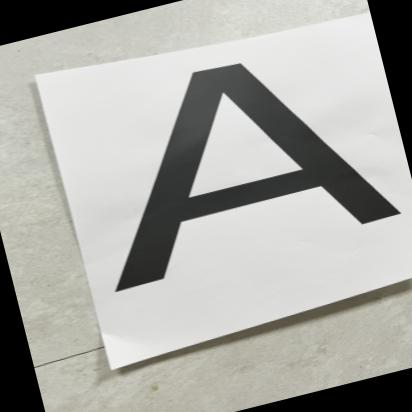seat: (55, 17, 412, 302)
